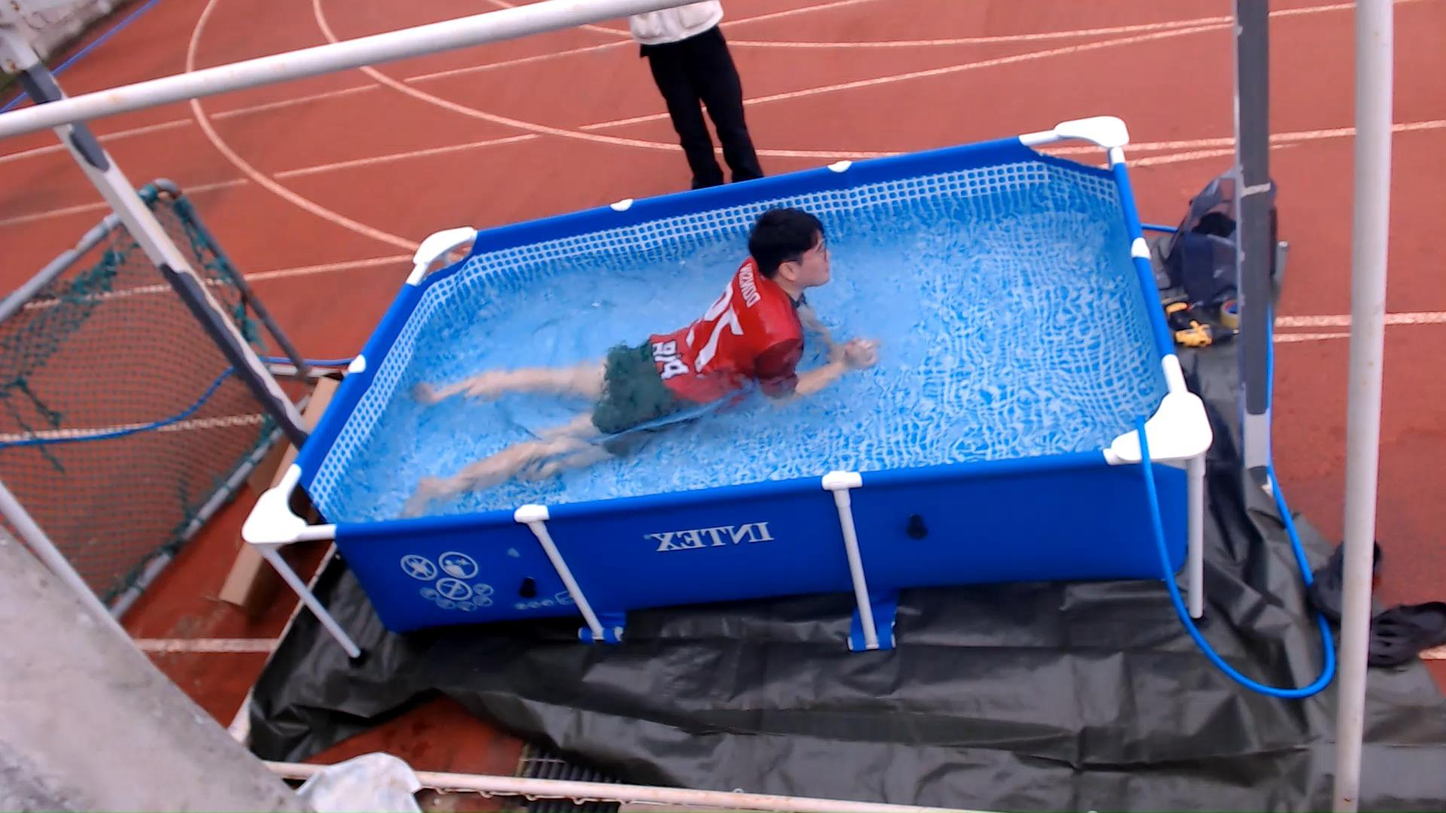Person-out-of-water: (592, 0, 774, 214)
Swimming: (386, 187, 907, 487)
